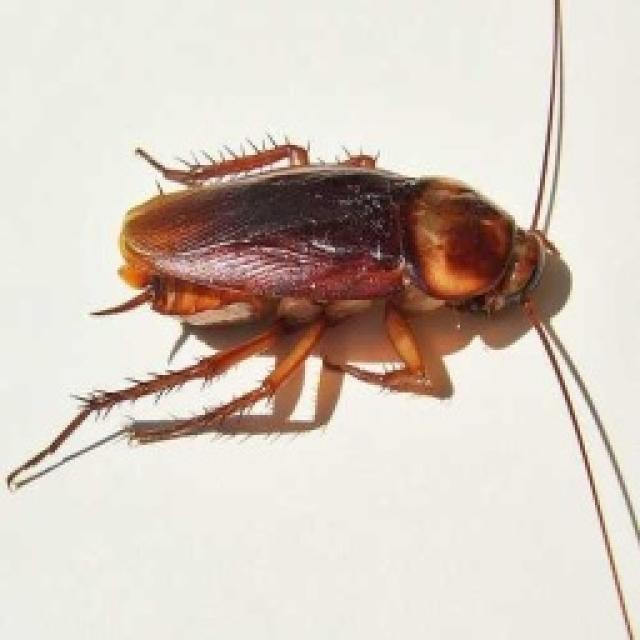cockroach: (68, 102, 640, 489)
